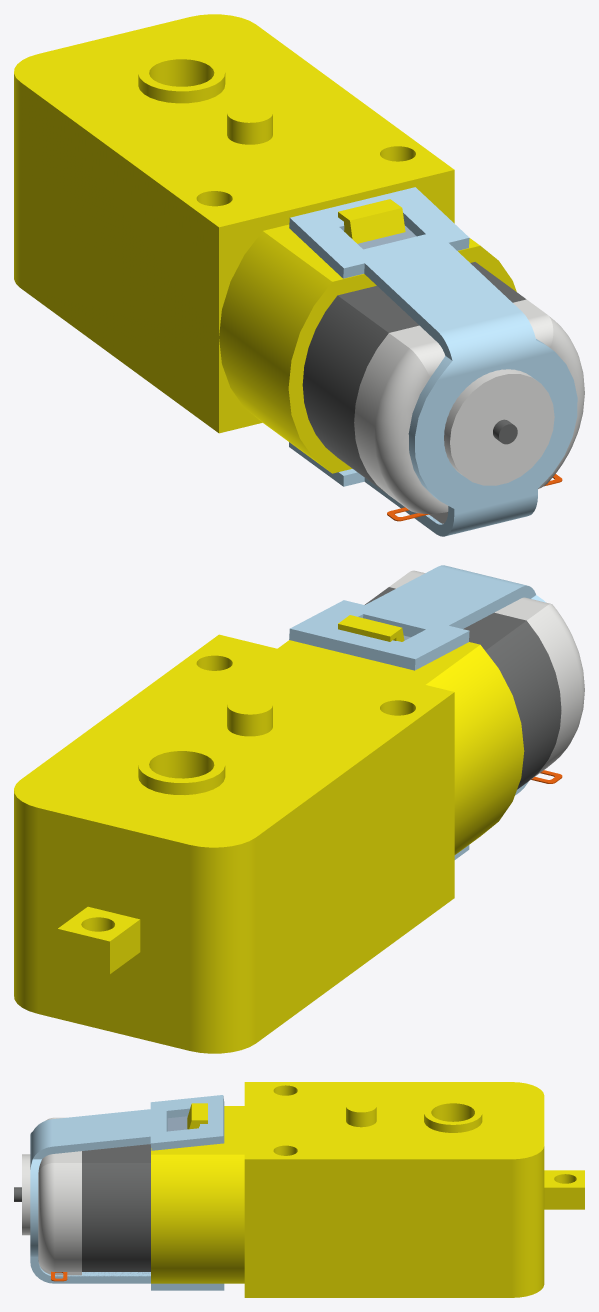
File: tt_motor.obj
3 renders of one model, top to bottom at view 1: azimuth 30°, elevation 25°; view 2: azimuth 150°, elevation 25°; view 3: azimuth 270°, elevation 25°, orthographic. The views are drawn at different scales.
Visible parts, largest first — view 1: Part_1; view 2: Part_1; view 3: Part_1.
Part boxes in pixels (bbox=[...]): Part_1: bbox=[14, 14, 584, 536]; Part_1: bbox=[14, 565, 584, 1053]; Part_1: bbox=[14, 1082, 584, 1297].
Bounding box in the file's own units: 0.0225 × 0.0233 × 0.0702.
